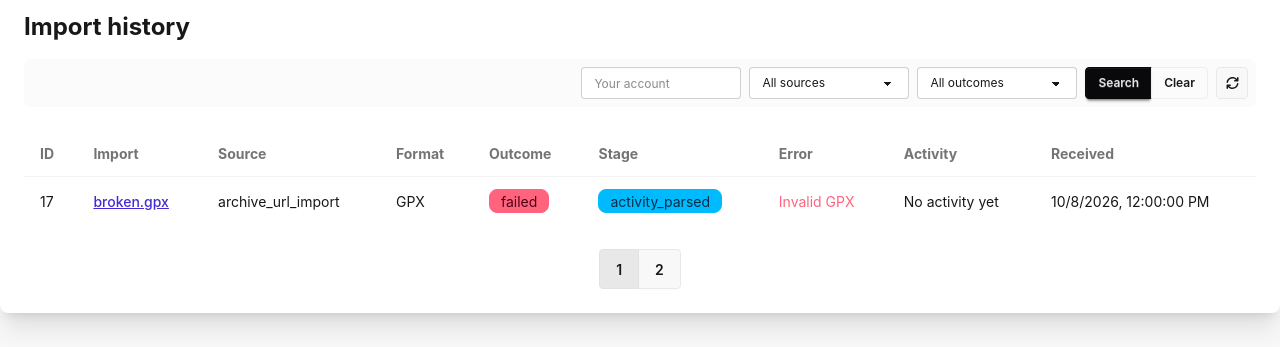
Test: Import history › refreshes the selected filters and clears them back to page one
Type "7" into the number field named "User ID".
click(661, 83); type("7")  # box [581,67,741,99]
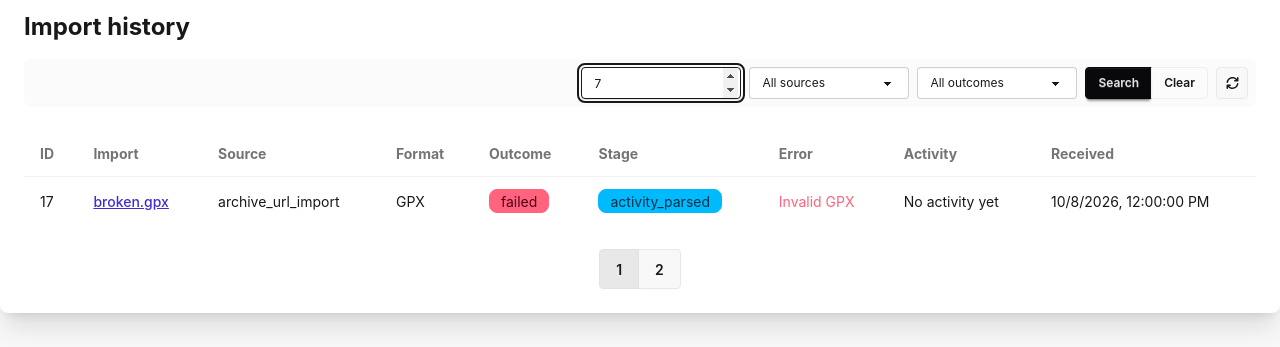
Select "Archive" in the dropdown named "Source" at {"x": 829, "y": 83}, box [749,67,909,99]
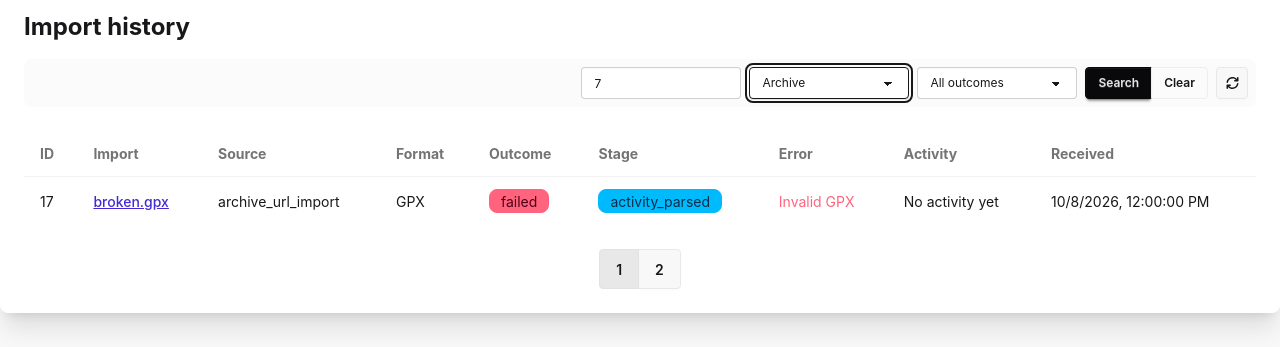
Select "failed" in the dropdown named "Outcome" at {"x": 997, "y": 83}, box [917,67,1077,99]
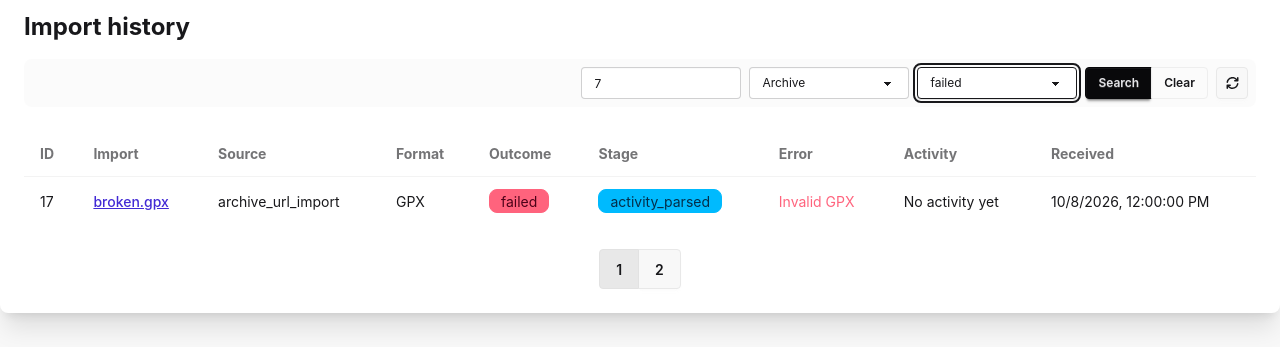
Click the button "2".
click(659, 269)  # box [638,249,681,289]
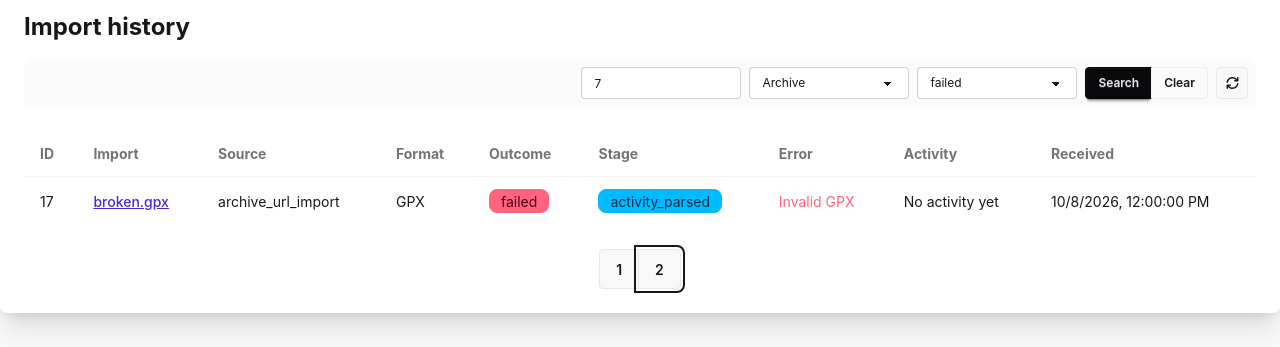
Click the button "Search".
click(1119, 83)  # box [1085,67,1152,99]
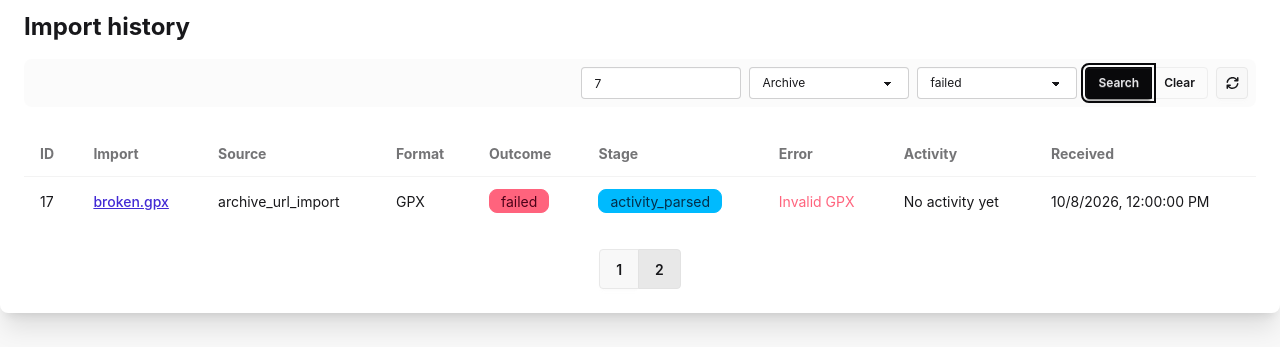
Click the button "Clear".
click(1180, 83)  # box [1151,67,1208,99]
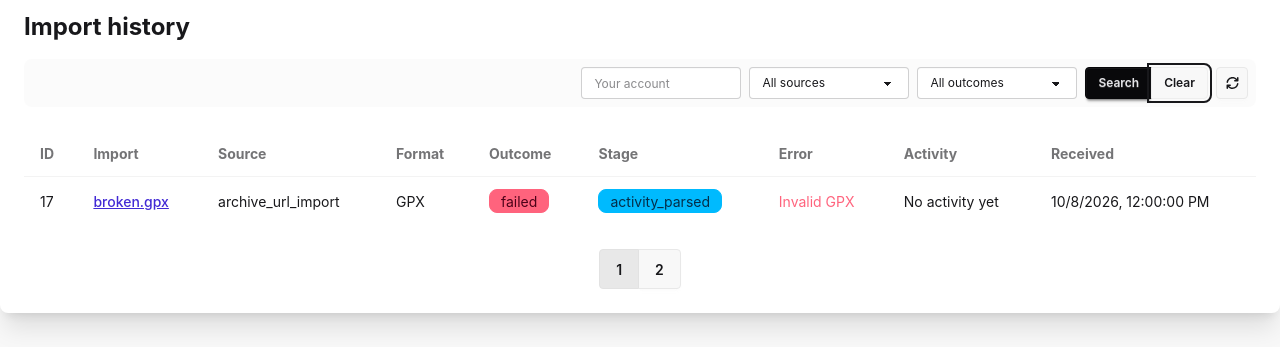
Now the number field named "User ID" is not empty, box [581,67,741,99]
